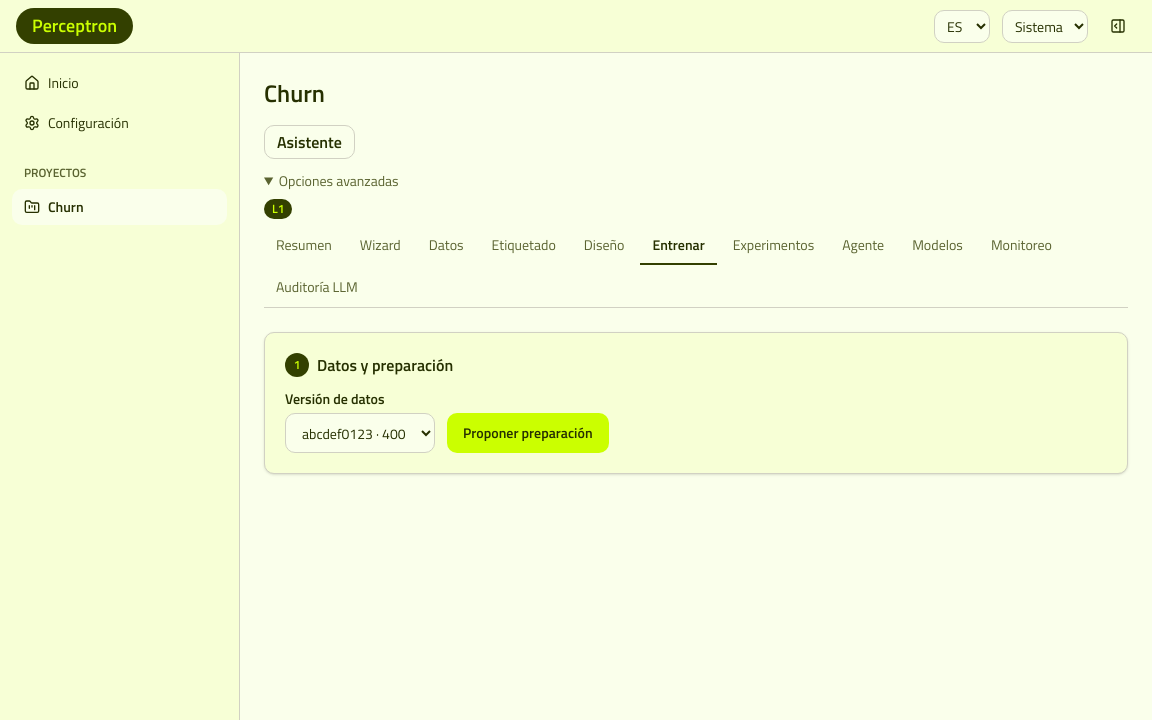
pantallas › Entrenar: con datos casi determinísticos sugiere buscar la fórmula (caso Tabla X)
The width and height of the screenshot is (1152, 720).
Click the button "Proponer preparación" at coordinates (528, 433), box [447, 413, 608, 453]
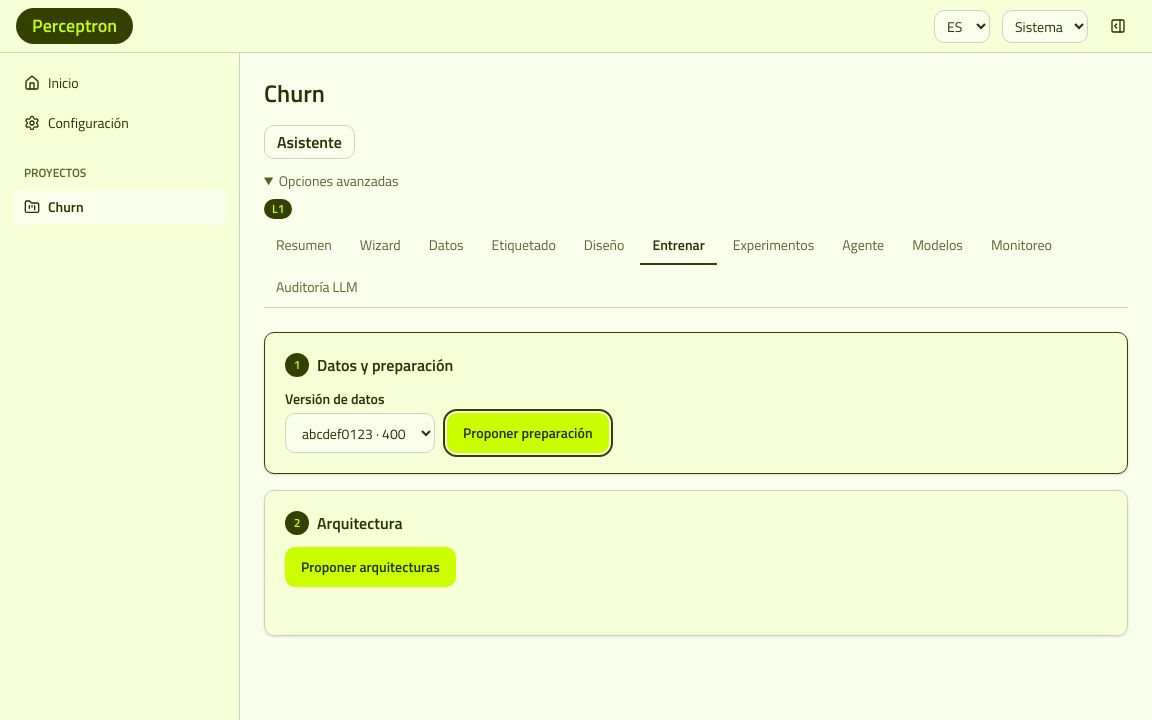
Click the button "Proponer arquitecturas" at coordinates (370, 567), box [285, 547, 456, 587]
(page scrolled)
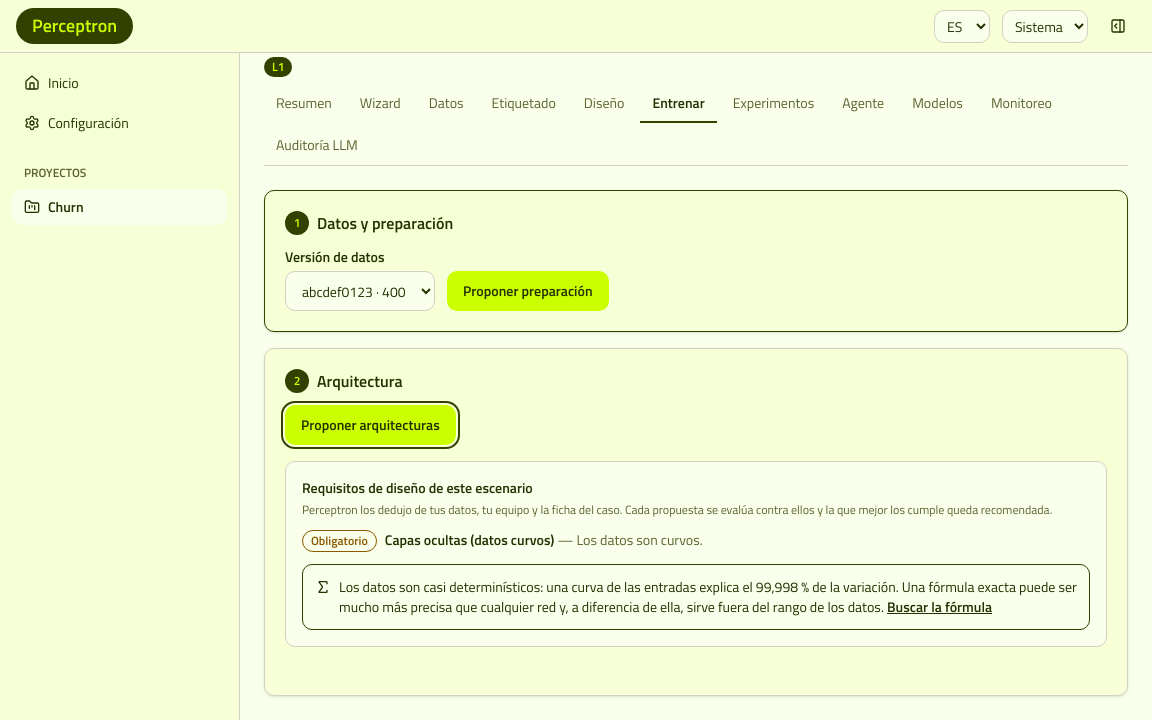
Result: the text "casi determinísticos" is shown at [339, 576, 1077, 617]
Result: the text "99,998 %" is shown at [339, 576, 1077, 617]
